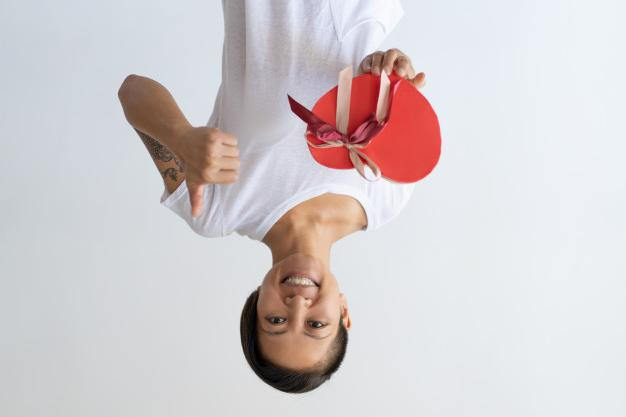thumbsdown: (188, 128, 240, 218)
